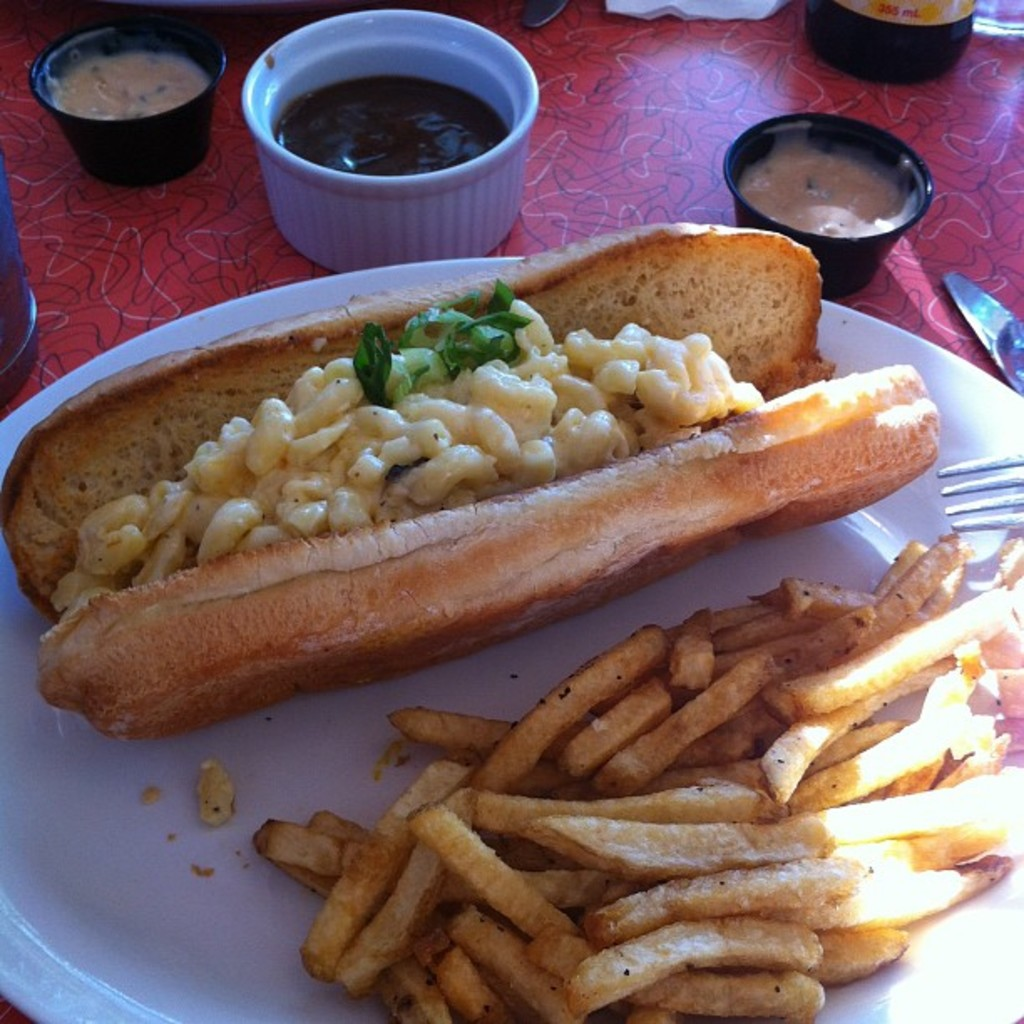French fries: (249, 532, 1021, 1024)
